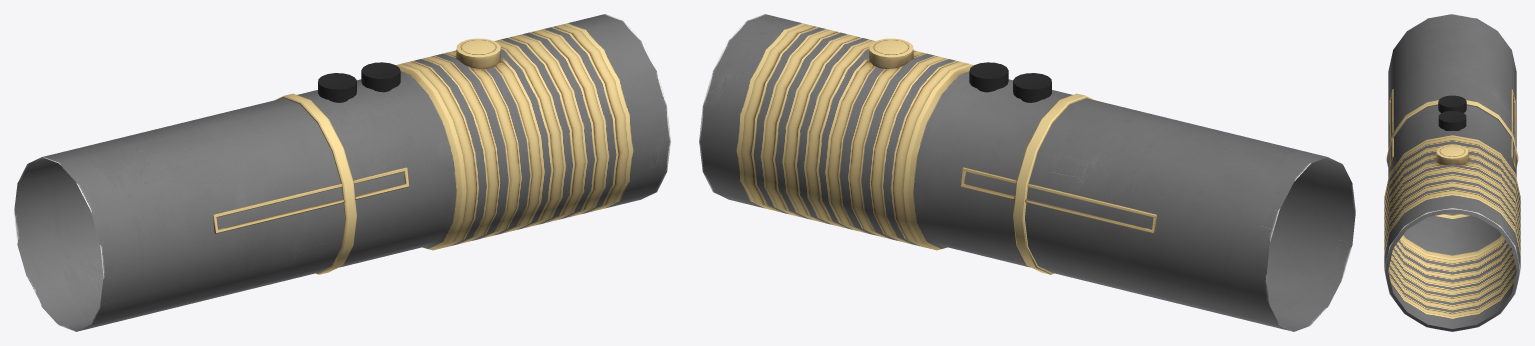
Rendered from grip_14_c_b.glb.
3 renders of one model, left to right at view 1: azimuth 30°, elevation 25°; view 2: azimuth 150°, elevation 25°; view 3: azimuth 270°, elevation 25°, orthographic. The views are drawn at different scales.
Visible parts, largest first — view 1: grip_14_c_b_lod0; view 2: grip_14_c_b_lod0; view 3: grip_14_c_b_lod0.
Part boxes in pixels (x1,y1,x2,y2): grip_14_c_b_lod0: (14, 14, 670, 331); grip_14_c_b_lod0: (699, 14, 1355, 331); grip_14_c_b_lod0: (1384, 14, 1520, 331).
Size of what is drawn, in the model's own units: 0.1041 by 0.0321 by 0.0302.
Materials: 1 (1 with a texture image).
